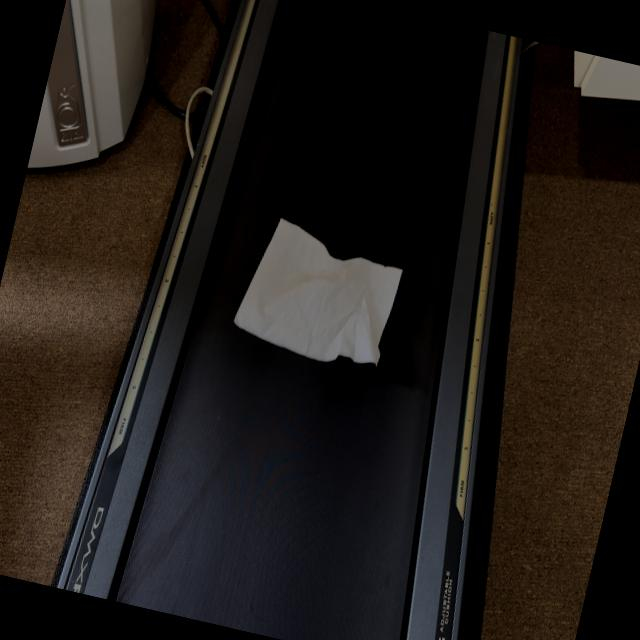Recycle: (225, 208, 412, 382)
